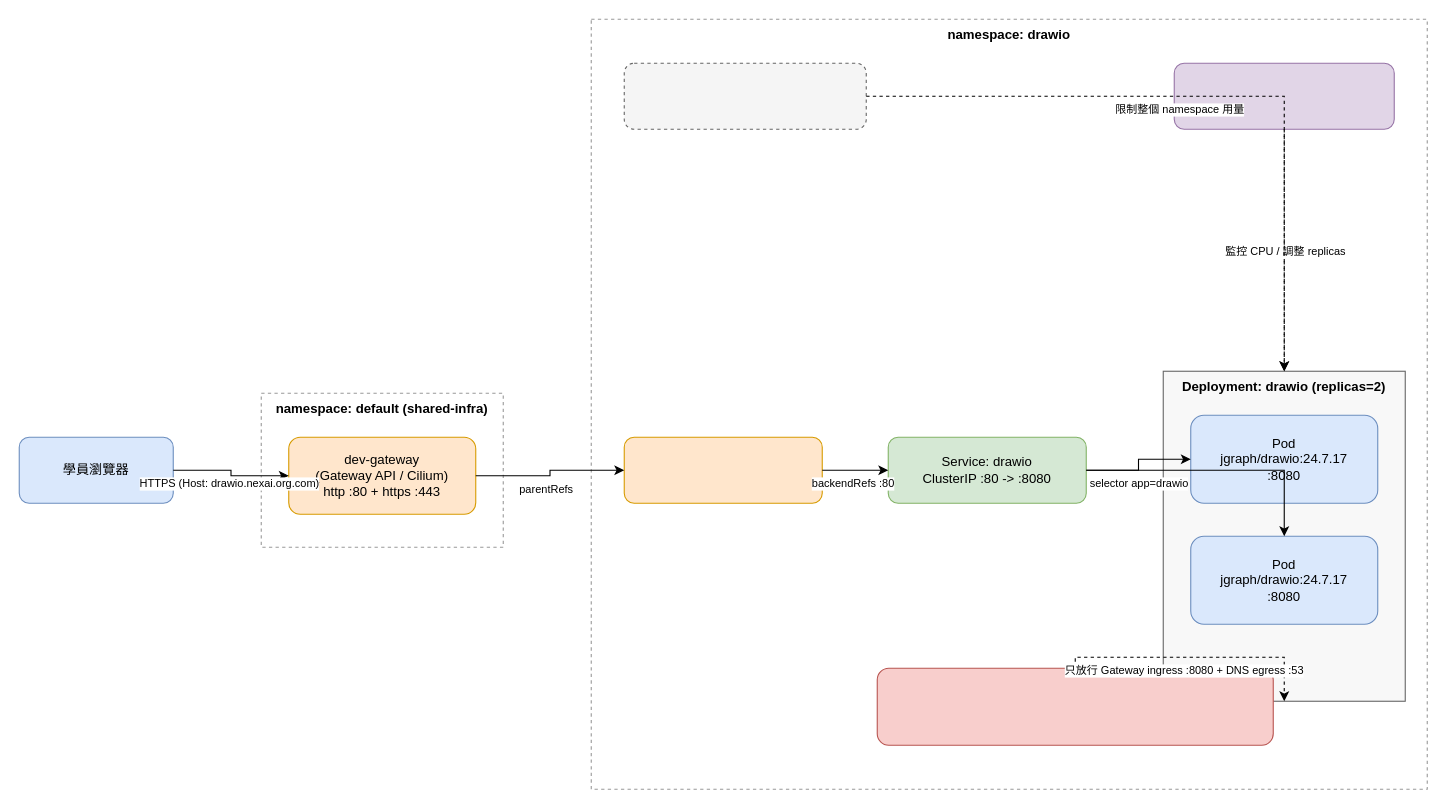
This 1447x809 diagram has some shape labels left out. Here are the shapes that lost their labels. From the top down, the centre of each, then its label:
At point 744,95: "ResourceQuota + LimitRange (namespace 資源治理)".
At point 1283,95: "HorizontalPodAutoscaler min 2 / max 5, CPU 70%".
At point 722,469: "HTTPRoute: drawio host: drawio.nexai.org.com".
At point 1074,706: "NetworkPolicy default-deny + 放行 Gateway ingress / DNS egress".
